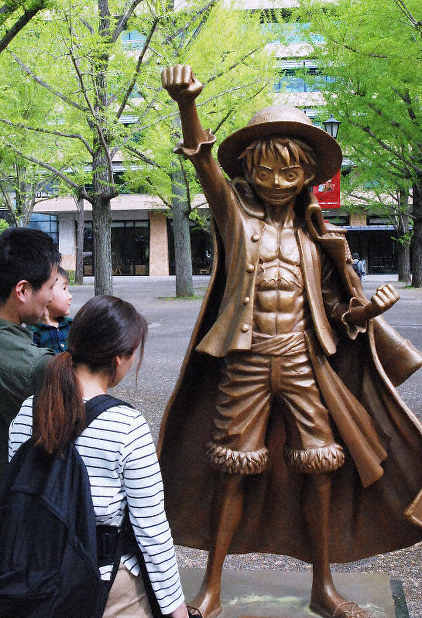person: (4, 287, 197, 618), (1, 222, 65, 412), (28, 262, 76, 357)
person-like: (149, 57, 420, 616)
